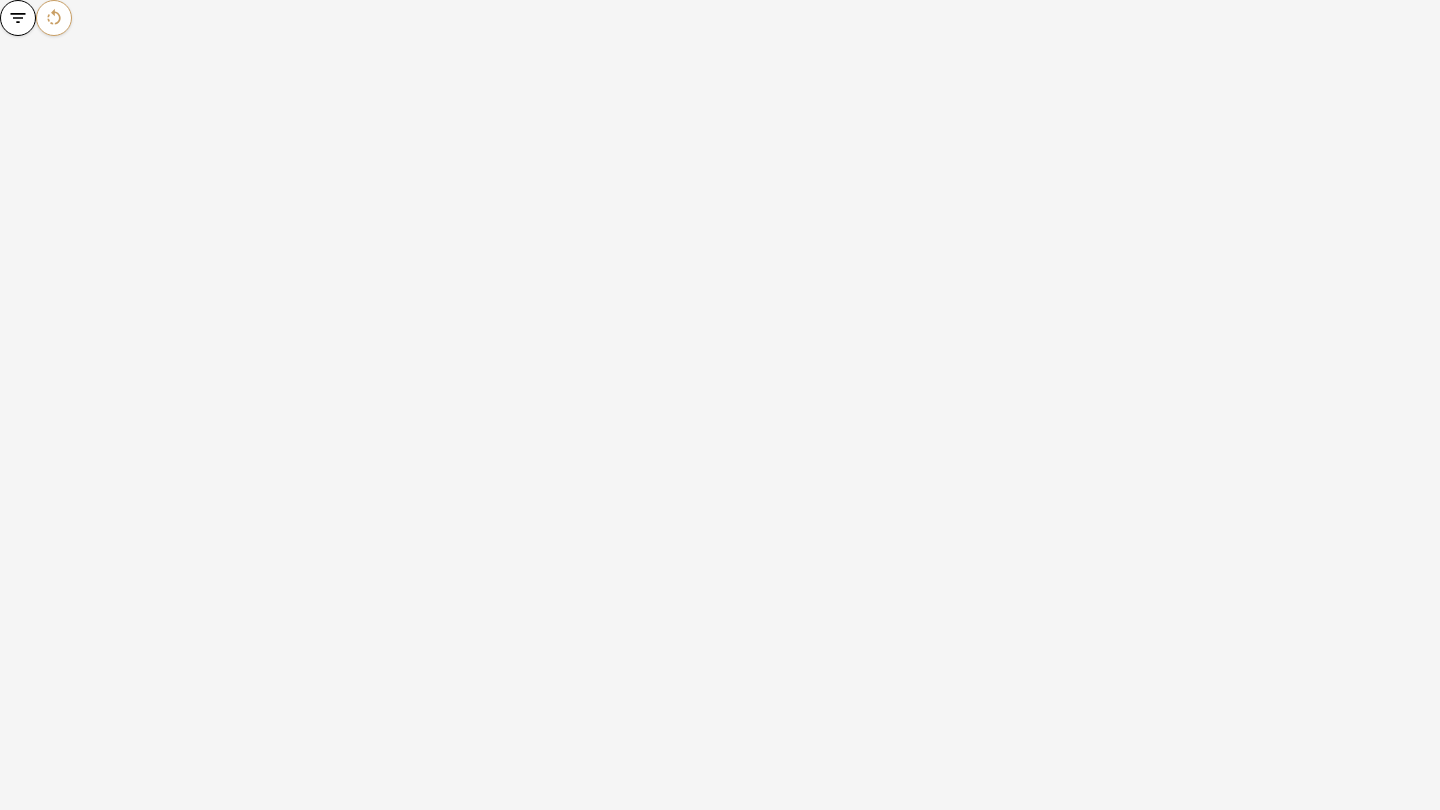
Test: FingerprintFilterBar Component › renders filter bar button and opens dialog to show search input
This screenshot has width=1440, height=810.
Step 1. Click the button named "filter options" → [18, 18], box [0,0,36,36]
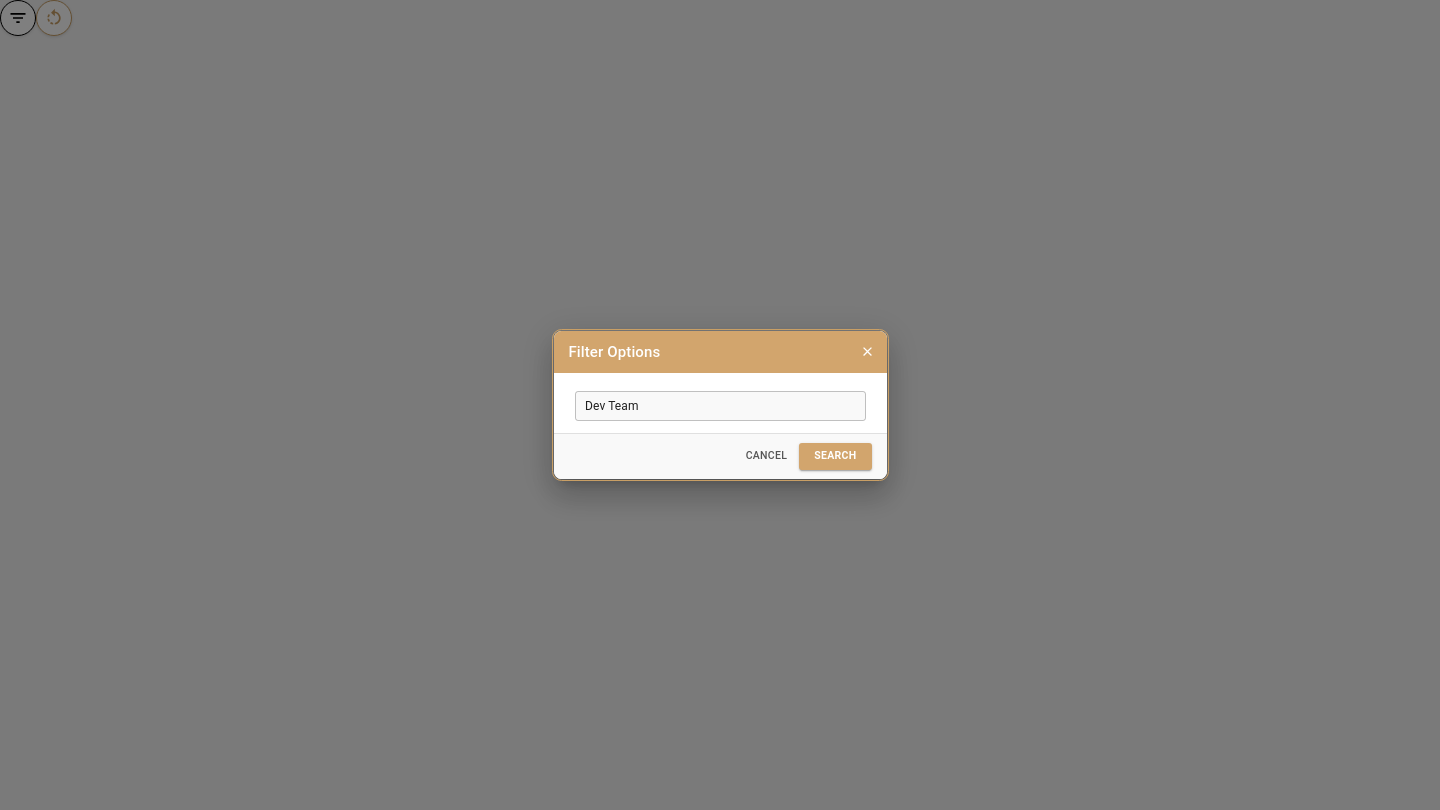
Check: the field with placeholder "Search..." holds "Dev Team", box [574,391,866,421]
